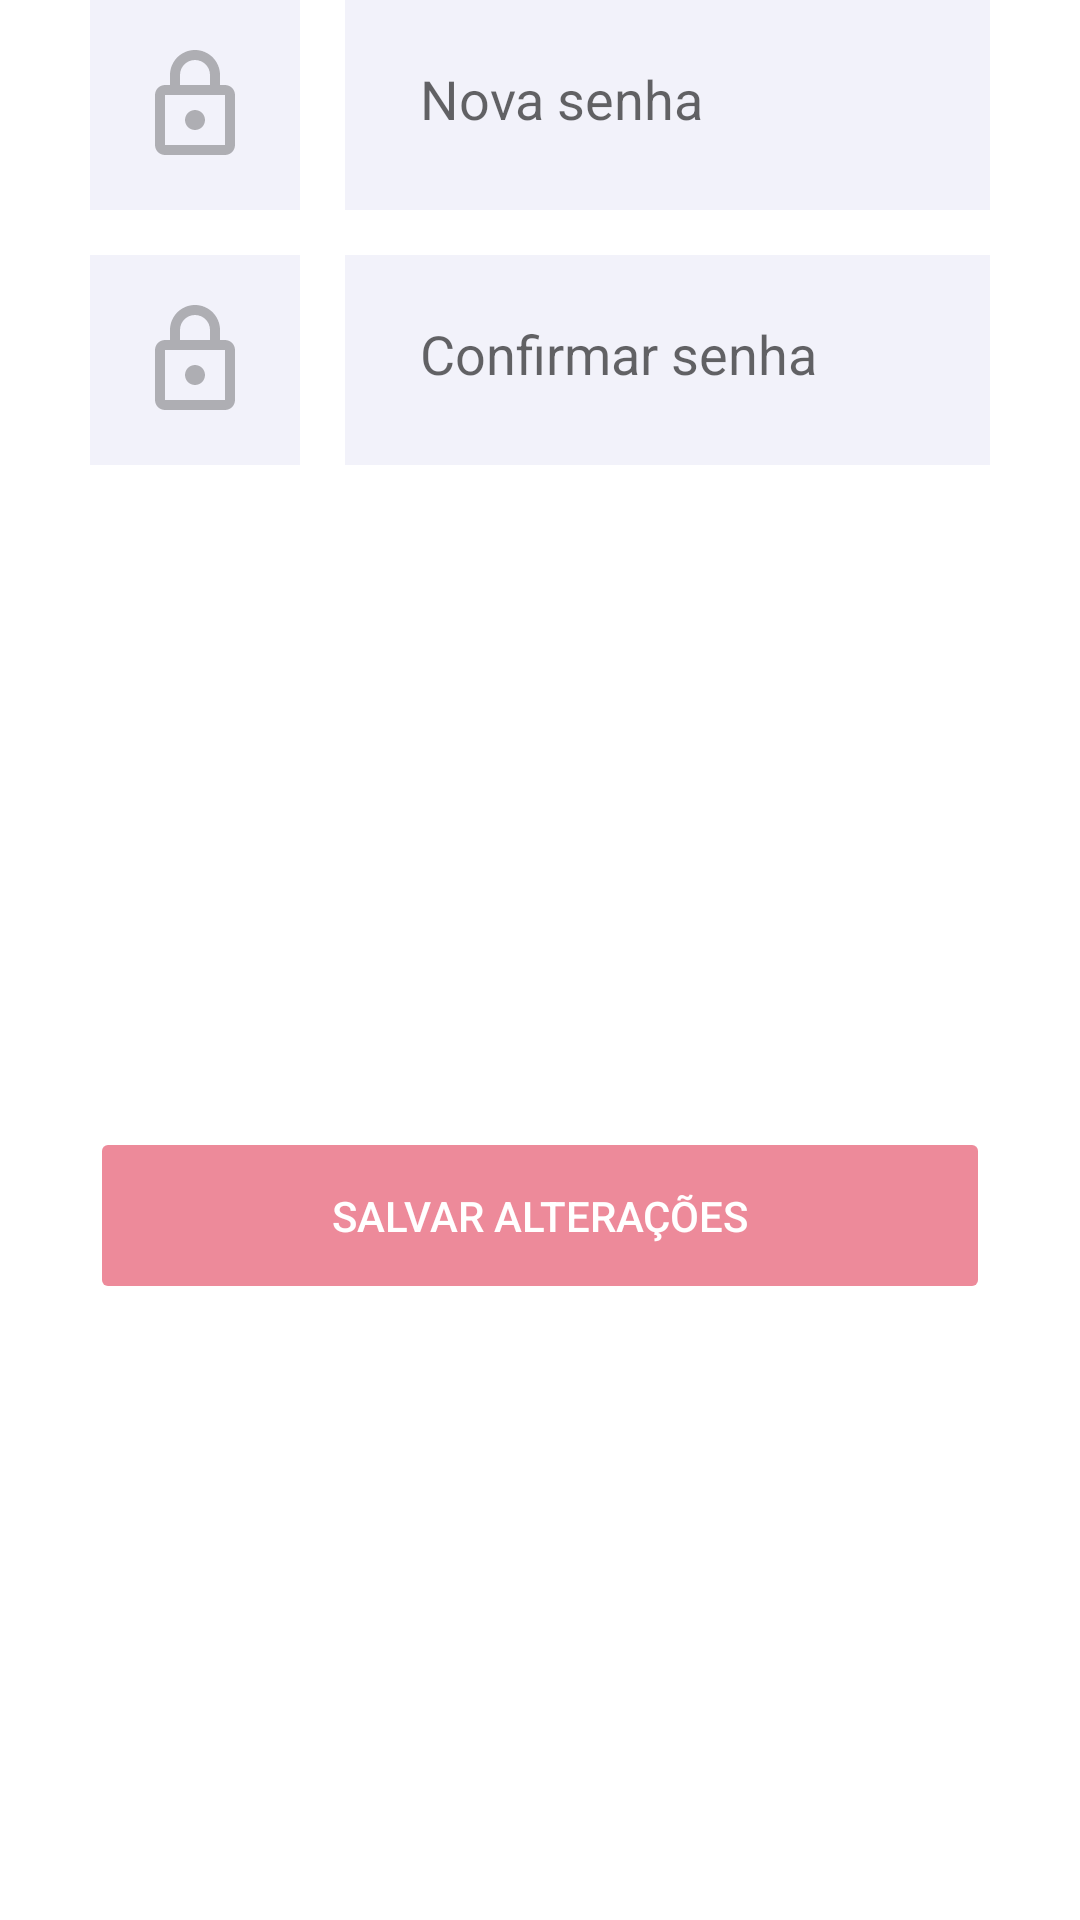

Icons on this 1080px x 1920px Android screen, each with the point to tap as [x,y]:
lock: [195,102], [195,357]
